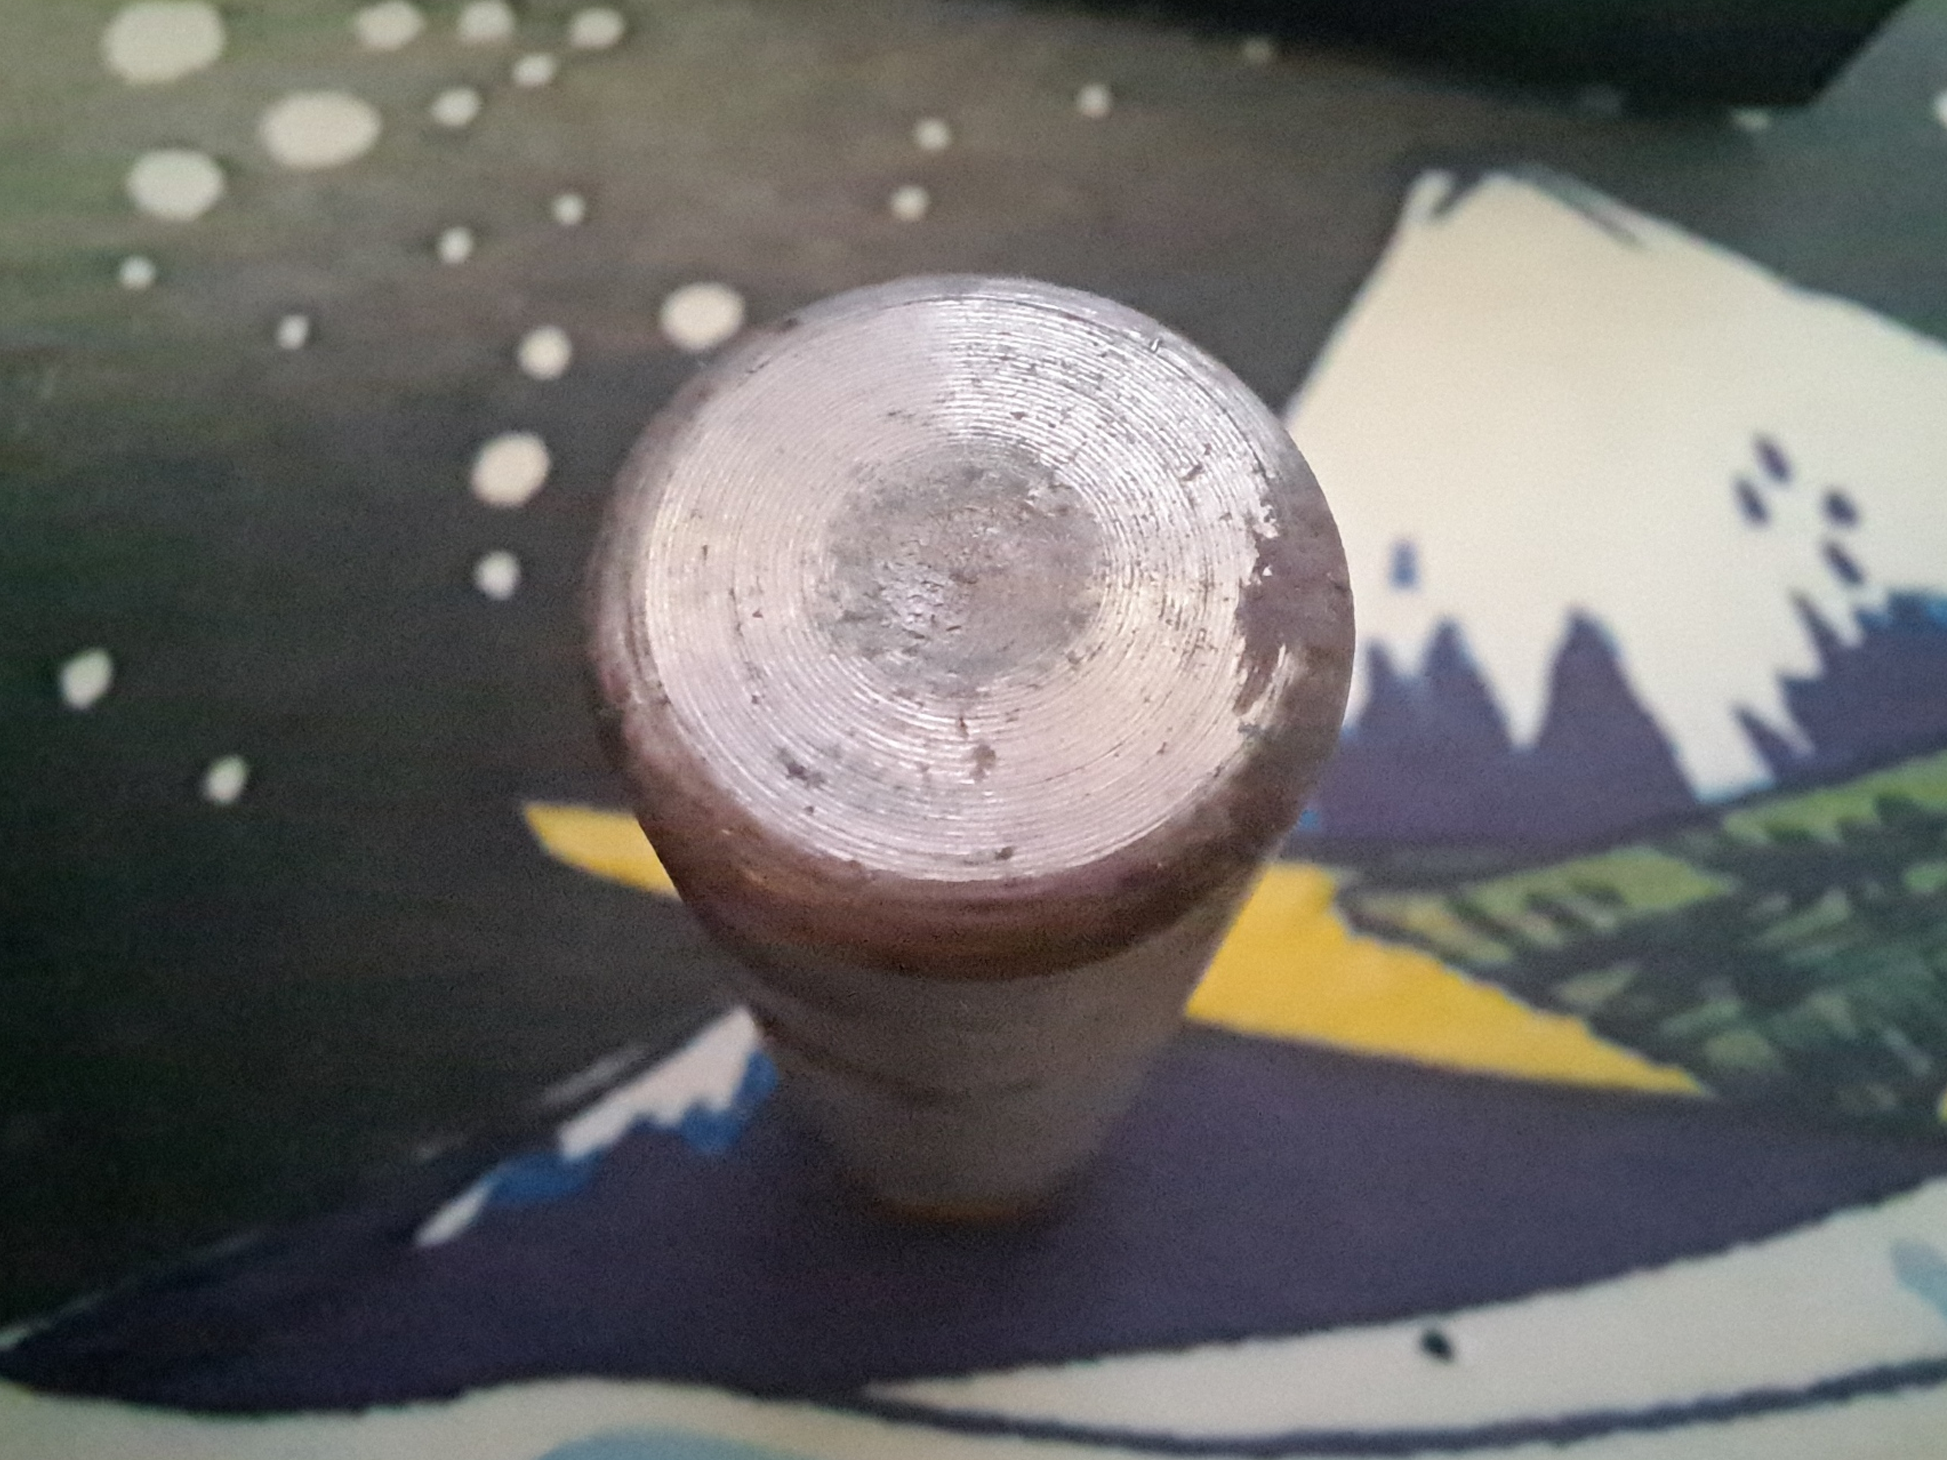плансон: (587, 279, 1354, 1219)
